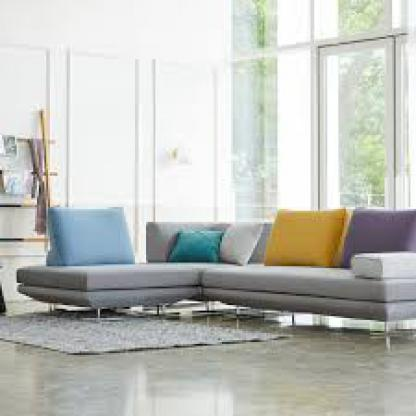sofa: (26, 211, 408, 340)
